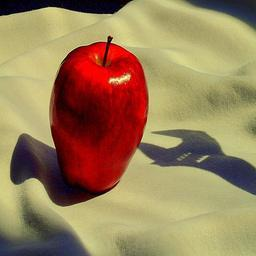apple: (48, 40, 149, 197)
